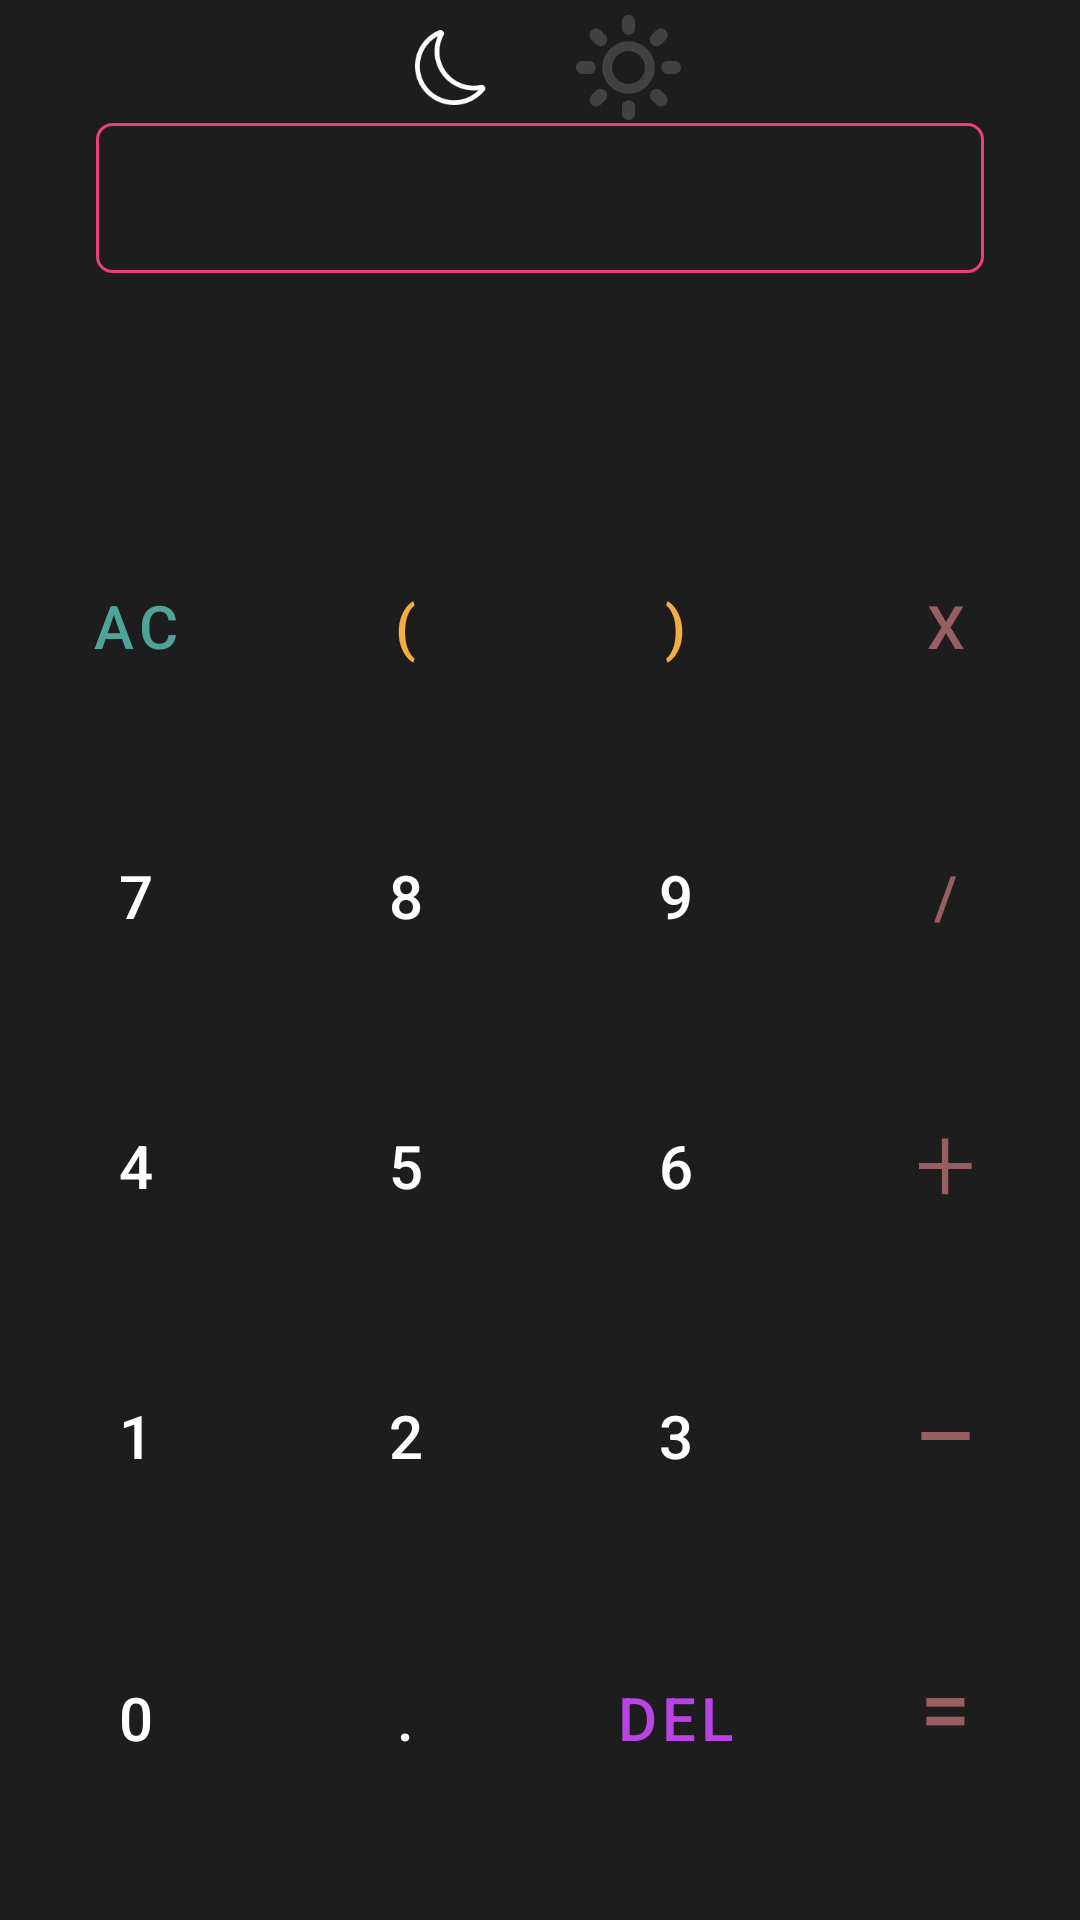

Icon bounding boxes for this 1080px x 1920px phone screenshot, format (x1, y1, x2, y2):
pluss: (919, 1138, 972, 1195)
